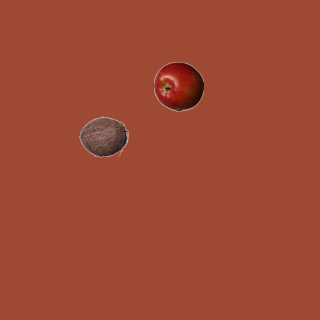Apple Braeburn: (153, 61, 203, 111)
Cocos: (78, 111, 128, 161)
